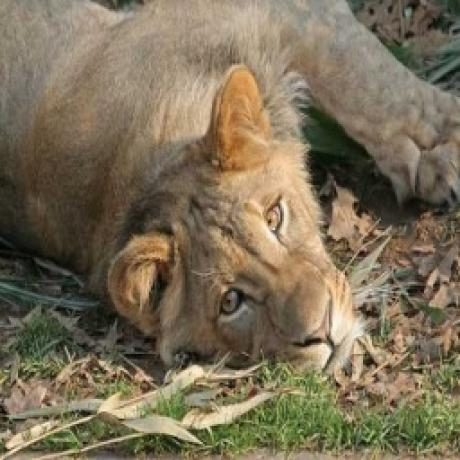Lion: (0, 0, 460, 381)
